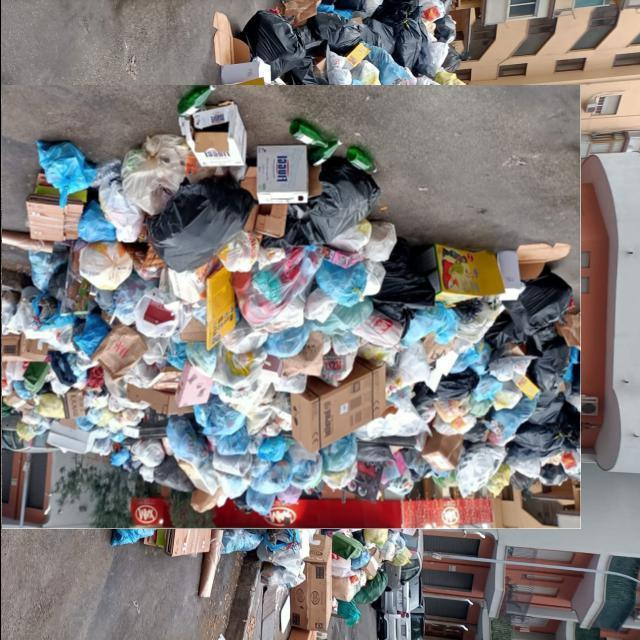Trashbag: (292, 157, 398, 245), (155, 172, 248, 272), (508, 260, 576, 322), (383, 255, 425, 319), (520, 377, 573, 416), (526, 421, 574, 452), (534, 342, 571, 375)
